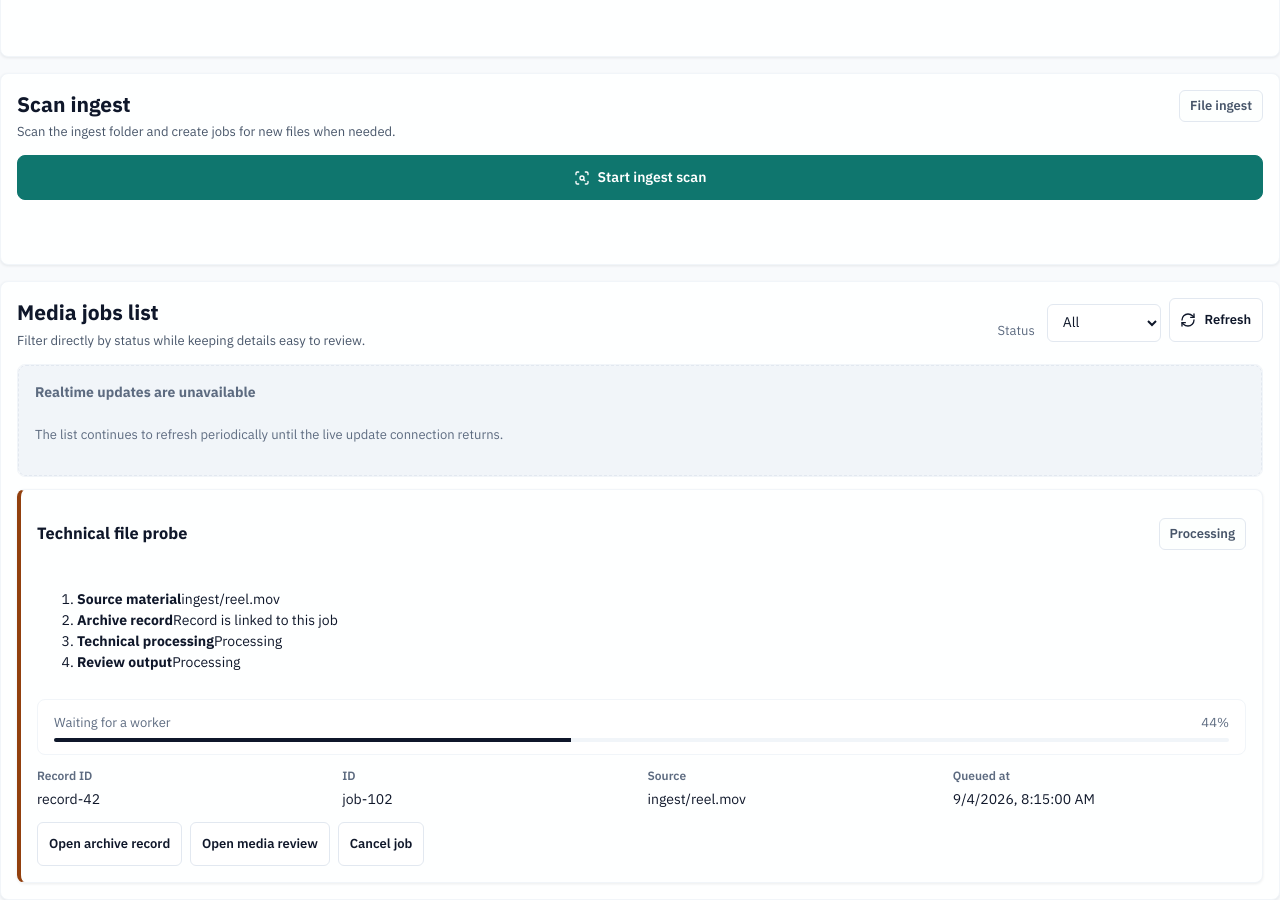
Scenario: MediaJobsList workflow workspace › cancels an active job using the supported API and reflects the returned state
The width and height of the screenshot is (1280, 900).
(page scrolled)
Click the button "Cancel job": (381, 844) [338,822,424,866]
(page scrolled)
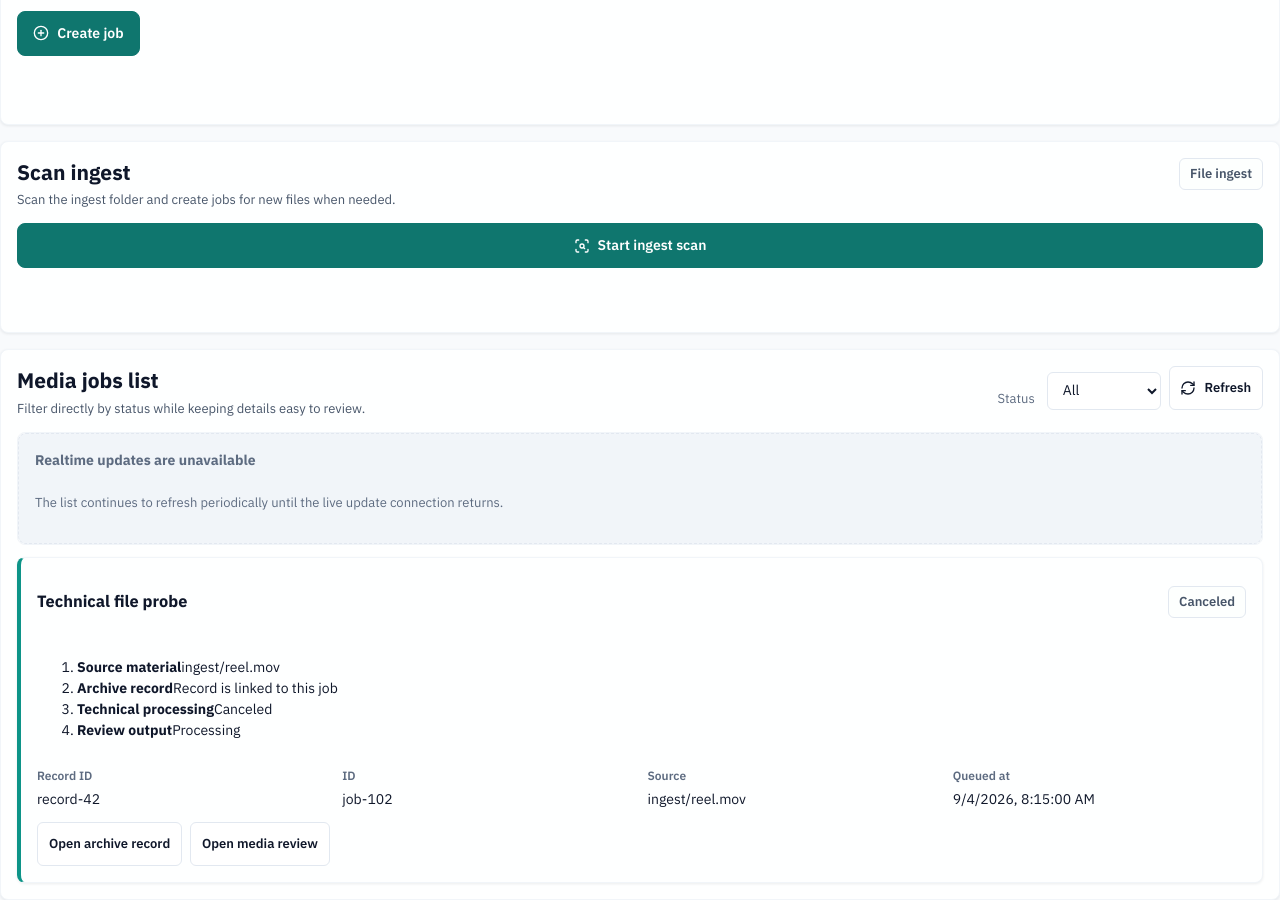
expect the text "Canceled" in the row of "Technical file probe" is shown: met, box [1179,592,1235,611]
